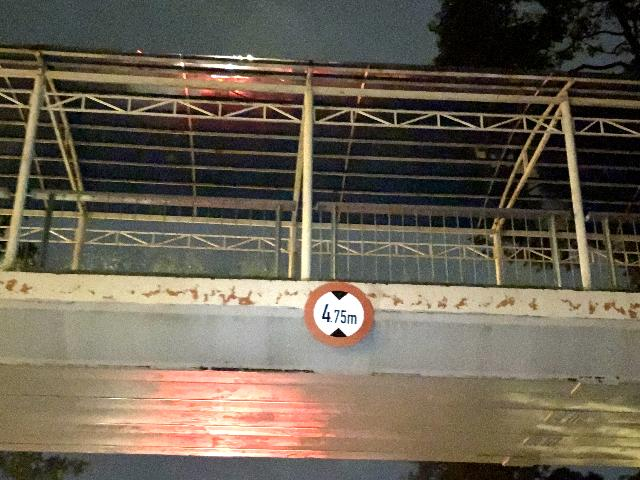han-che-chieu-cao: (304, 280, 374, 350)
